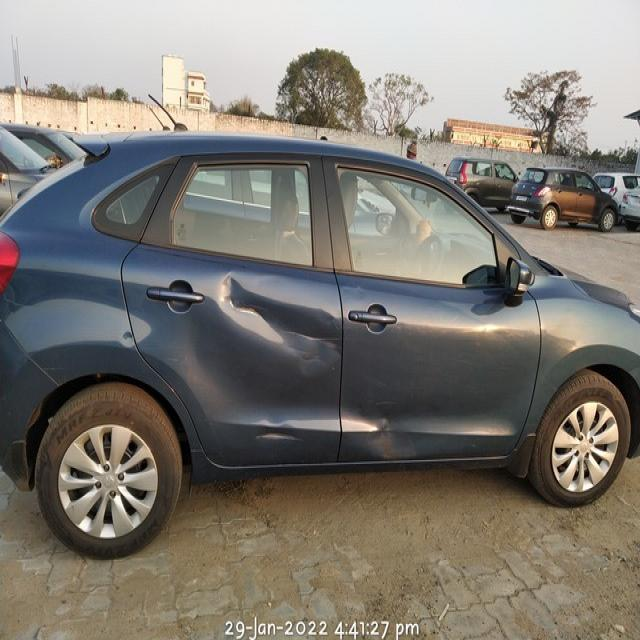damage: (212, 271, 343, 378), (355, 397, 414, 462), (249, 420, 302, 450)
